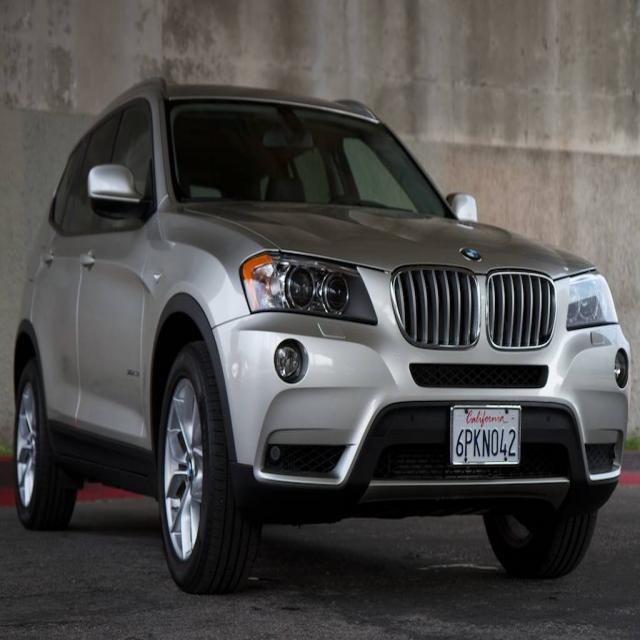car: (8, 62, 639, 602)
